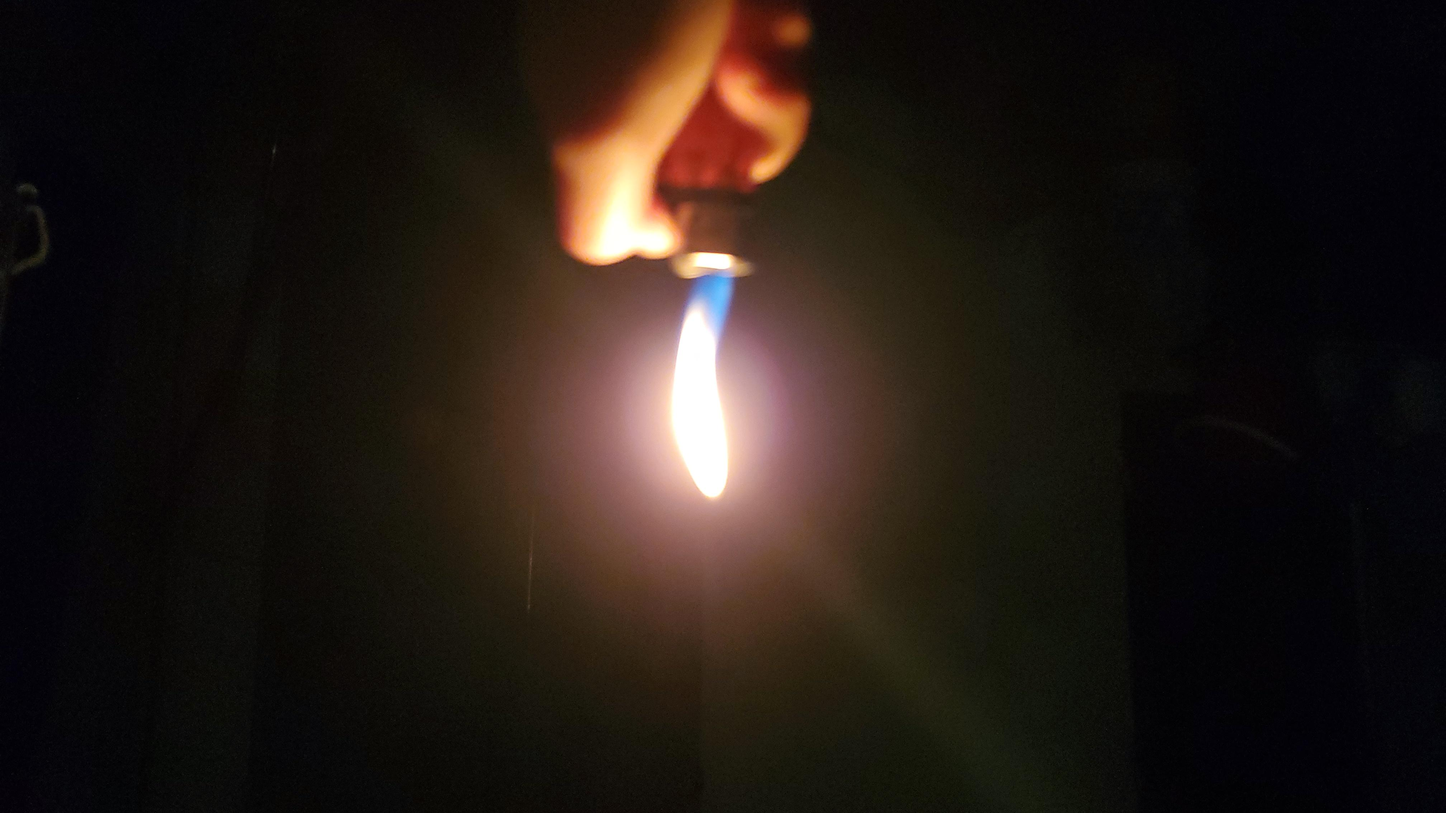fire: (714, 280, 776, 542)
